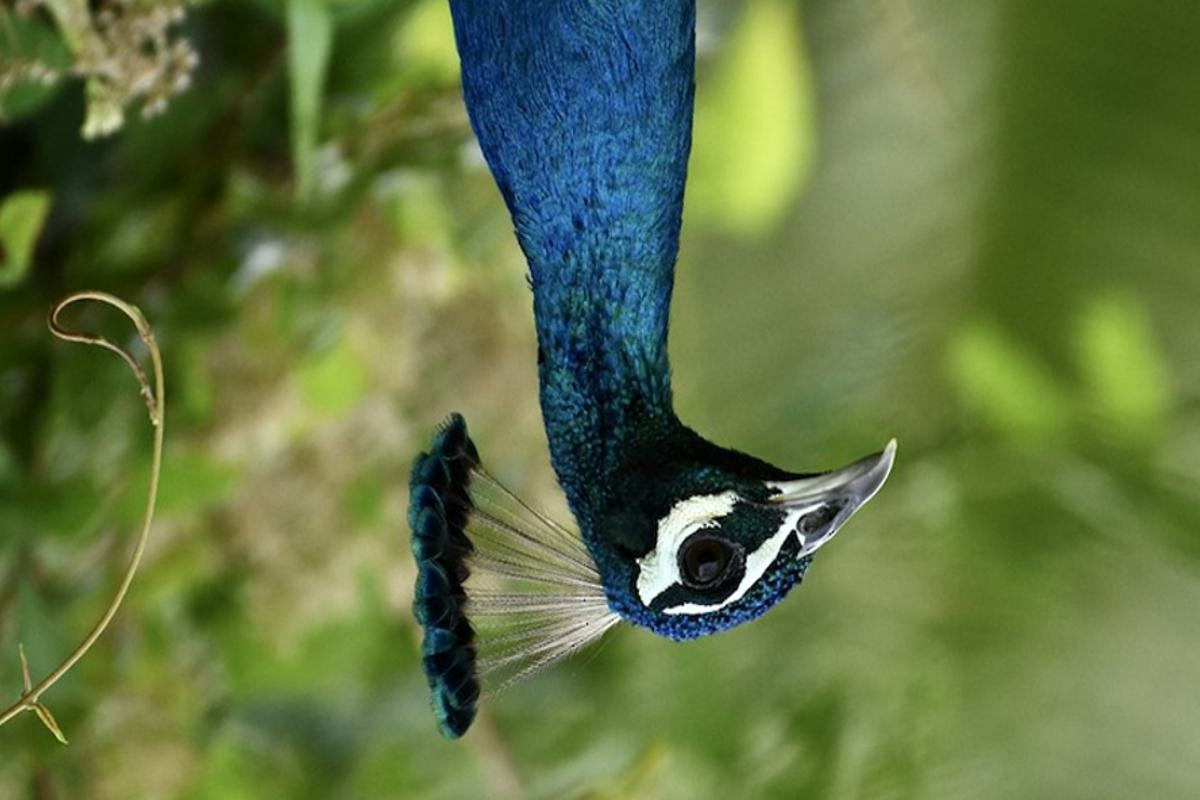peacock: (329, 1, 908, 713)
